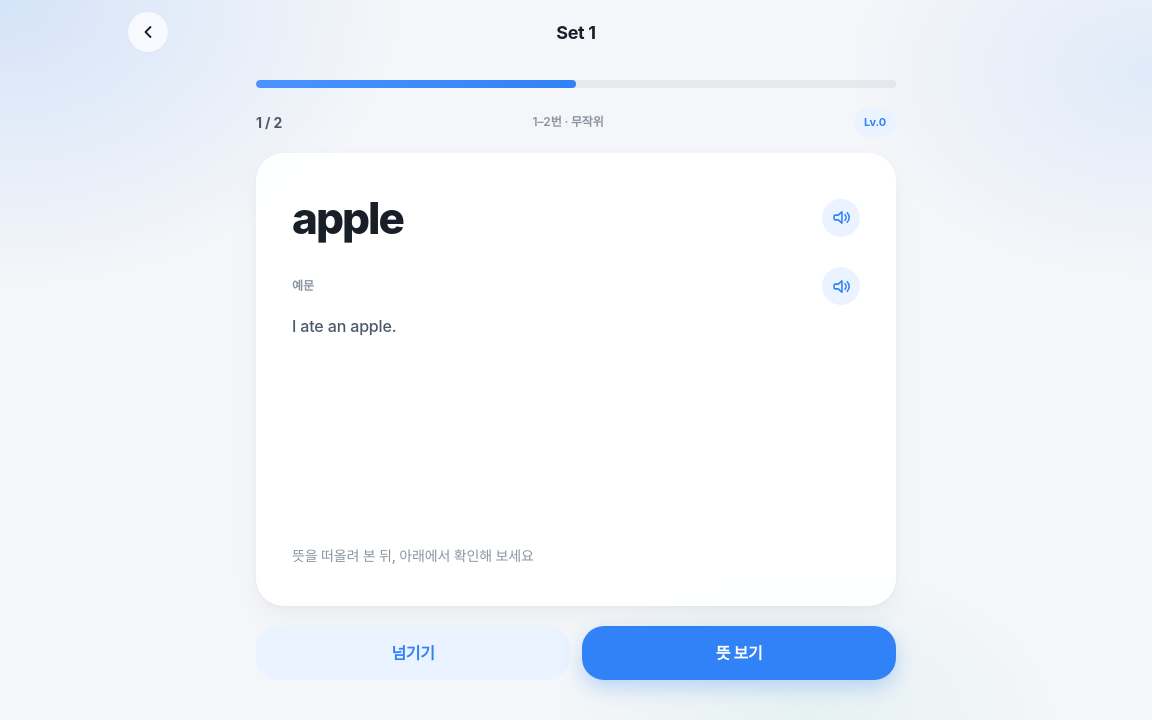
Test: quiz session › records a completed set and keeps unknown words only for result review
Check: the heading "apple" is shown, box x1=292 y1=190 x2=403 y2=244
Click the button "뜻 보기": [739, 653] box x1=582 y1=626 x2=896 y2=680
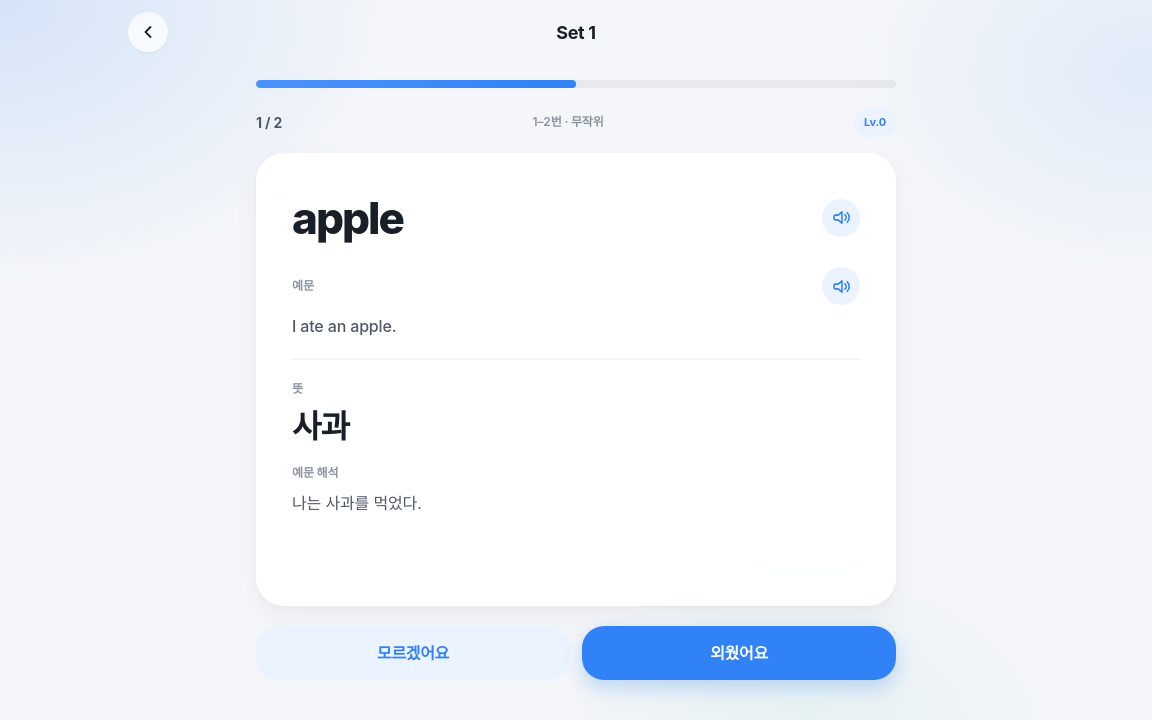
Click the button "모르겠어요": [413, 653] box x1=256 y1=626 x2=570 y2=680
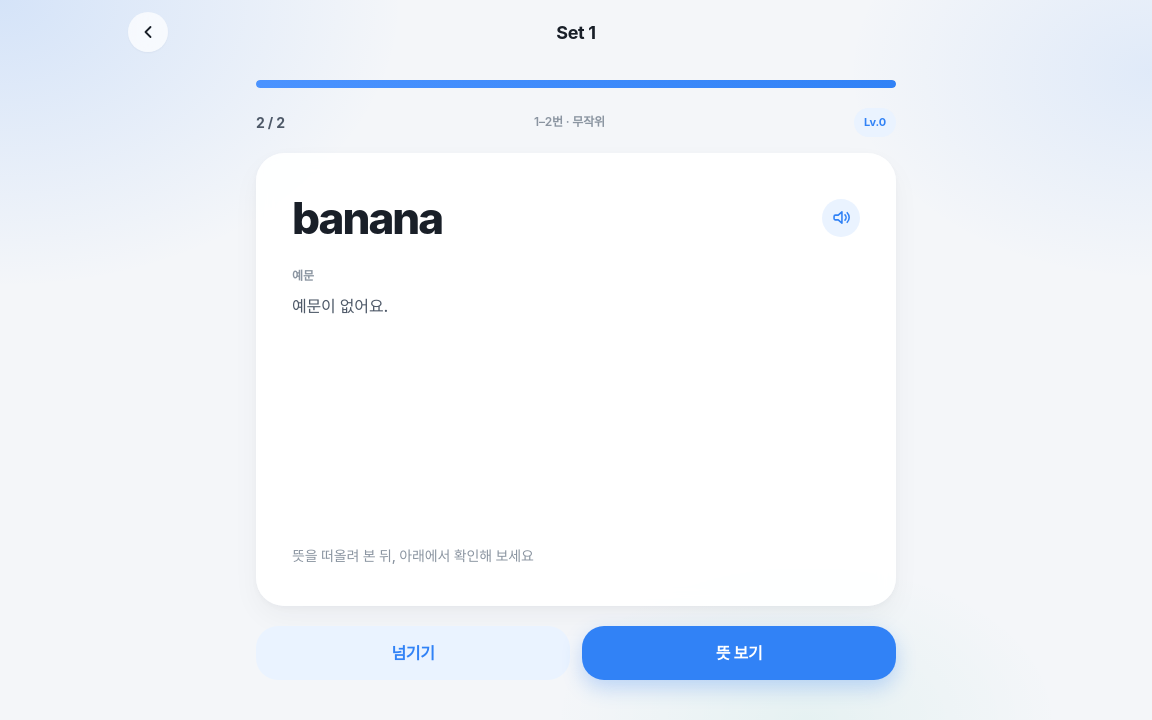
Check: the heading "banana" is shown, box x1=292 y1=190 x2=442 y2=244
Click the button "넘기기": [413, 653] box x1=256 y1=626 x2=570 y2=680
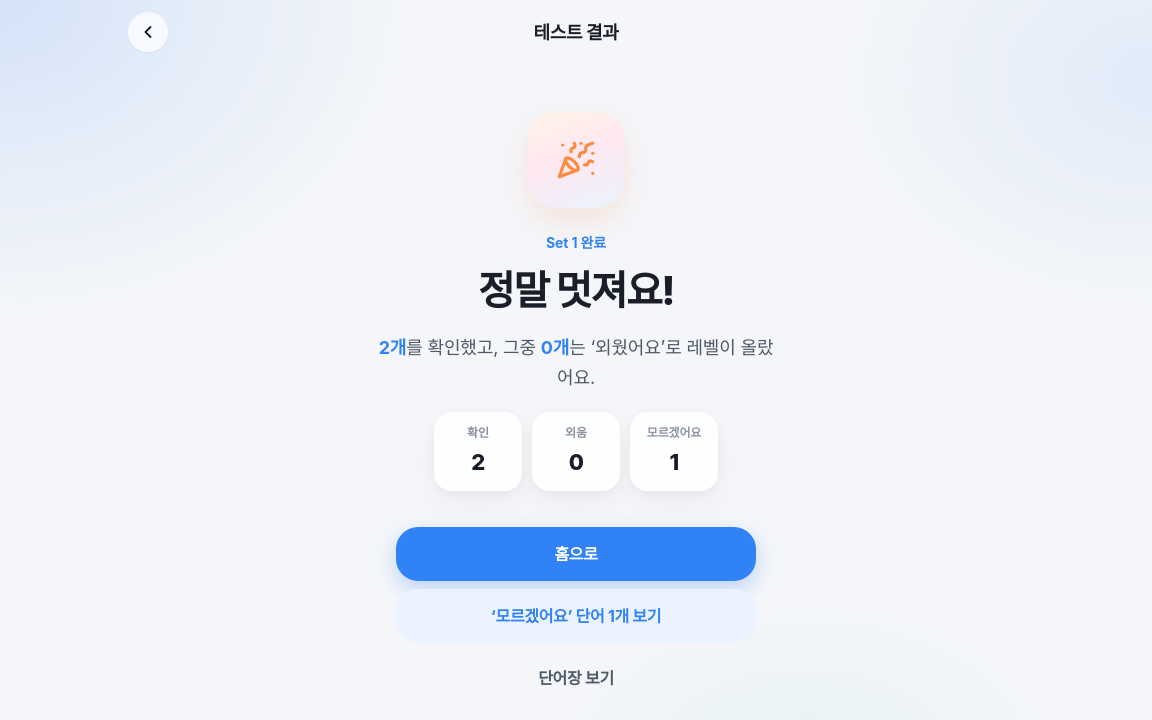
Check: the heading "정말 멋져요!" is shown, box x1=478 y1=261 x2=674 y2=321
Click the button "‘모르겠어요’ 단어 1개 보기": [576, 616] box x1=396 y1=589 x2=756 y2=643
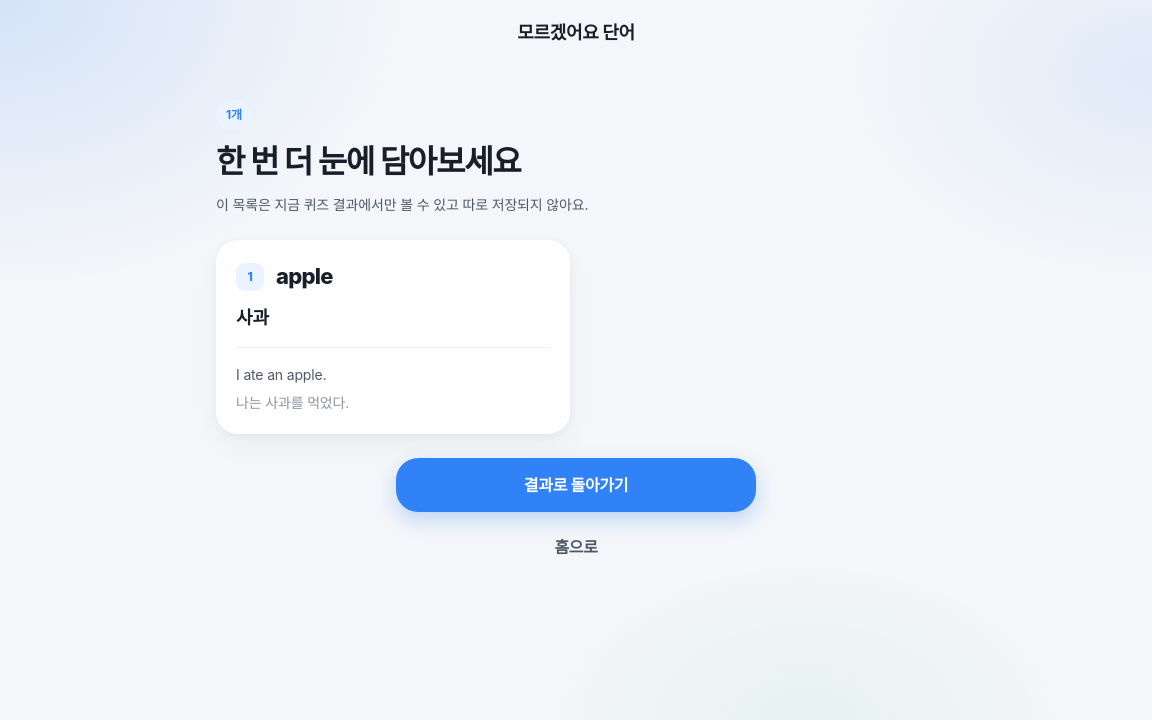
Check: the heading "한 번 더 눈에 담아보세요" is shown, box x1=216 y1=142 x2=520 y2=181
Check: the heading "apple" is shown, box x1=276 y1=260 x2=333 y2=293
Check: the text "사과" is shown, box x1=236 y1=307 x2=269 y2=328
